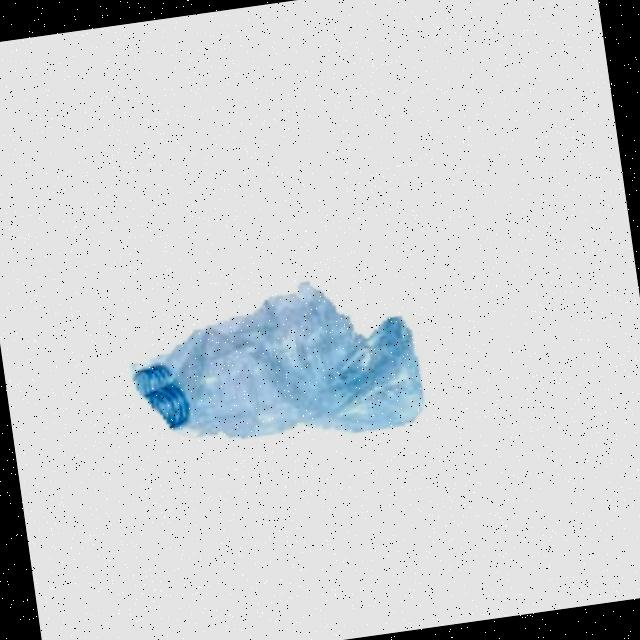Plastic: (96, 238, 455, 487), (149, 617, 480, 640)
